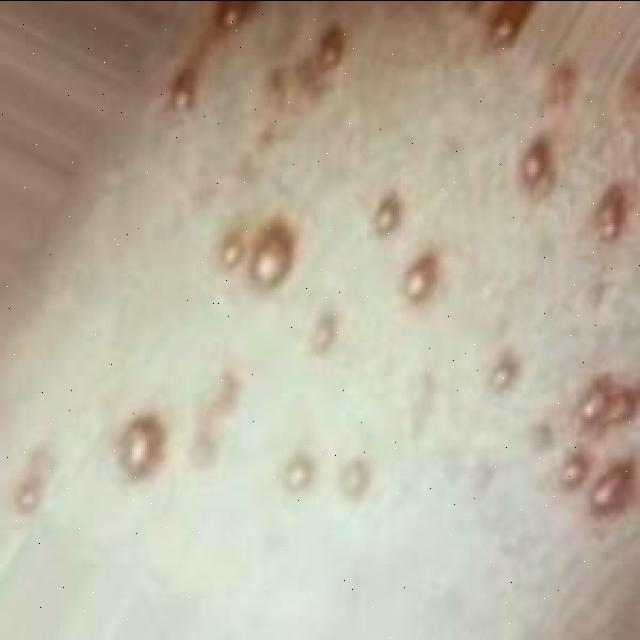Shingles: (97, 3, 640, 609)
